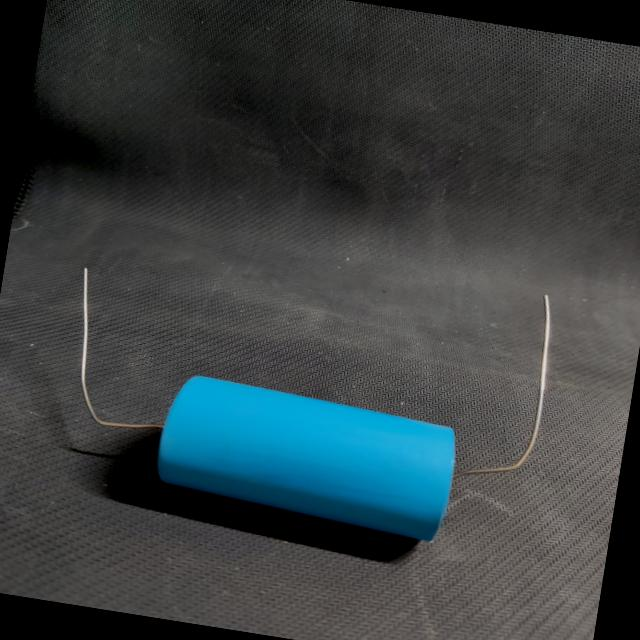capacitor: (32, 210, 578, 570)
